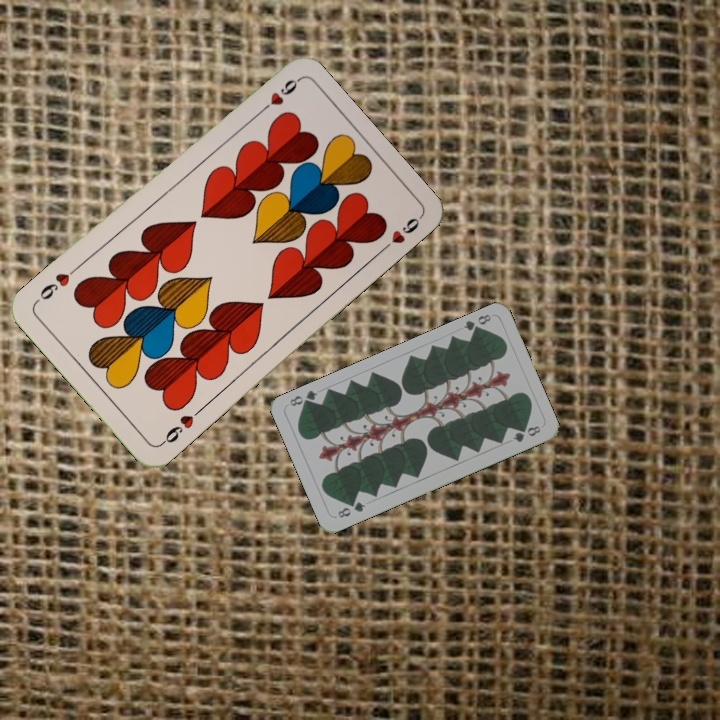G8: (459, 310, 494, 337), (333, 498, 368, 521)
H9: (252, 75, 301, 119), (156, 404, 204, 448)
